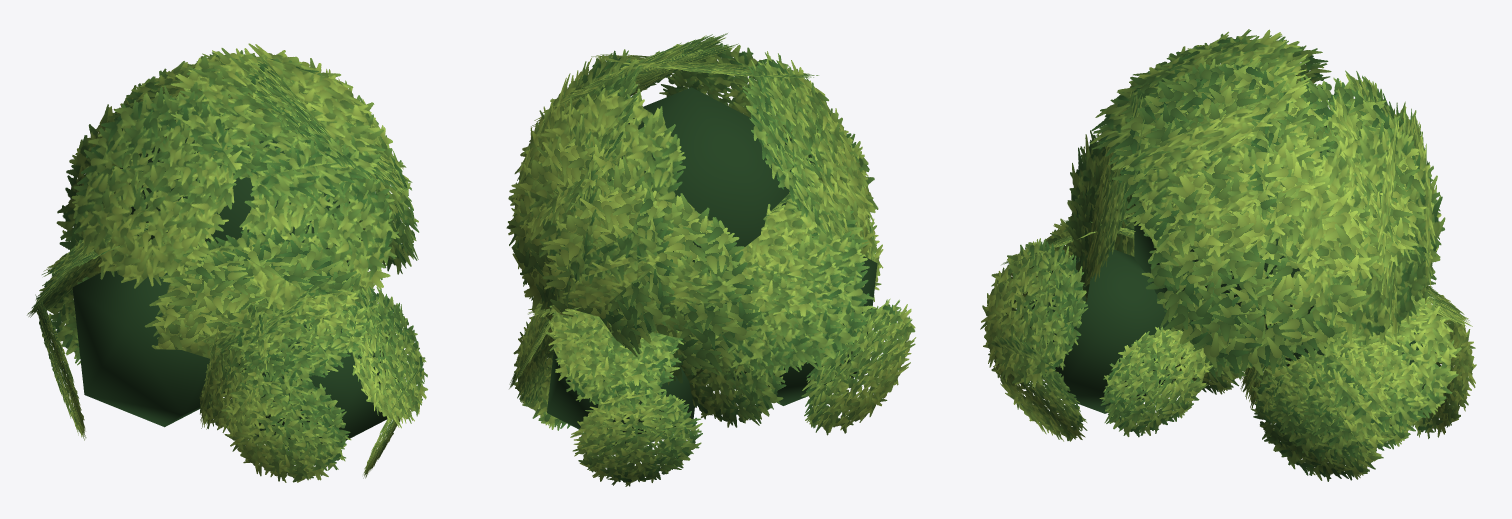
Rendered from bush.glb.
3 views of the same model, side by side, from view 1: azimuth 30°, elevation 25°; view 2: azimuth 150°, elevation 25°; view 3: azimuth 270°, elevation 25° (orthographic). The views are drawn at different scales.
Parts seen in each view (by area): view 1: bush; view 2: bush; view 3: bush.
Boxes of the visible parts, box(x1,y1,x2,y2) form: bush: box(27, 43, 427, 482); bush: box(506, 33, 916, 486); bush: box(980, 29, 1476, 481).
Size of the model in its own units: 1.7 by 1.72 by 1.86.
2 materials, 1 textured.
